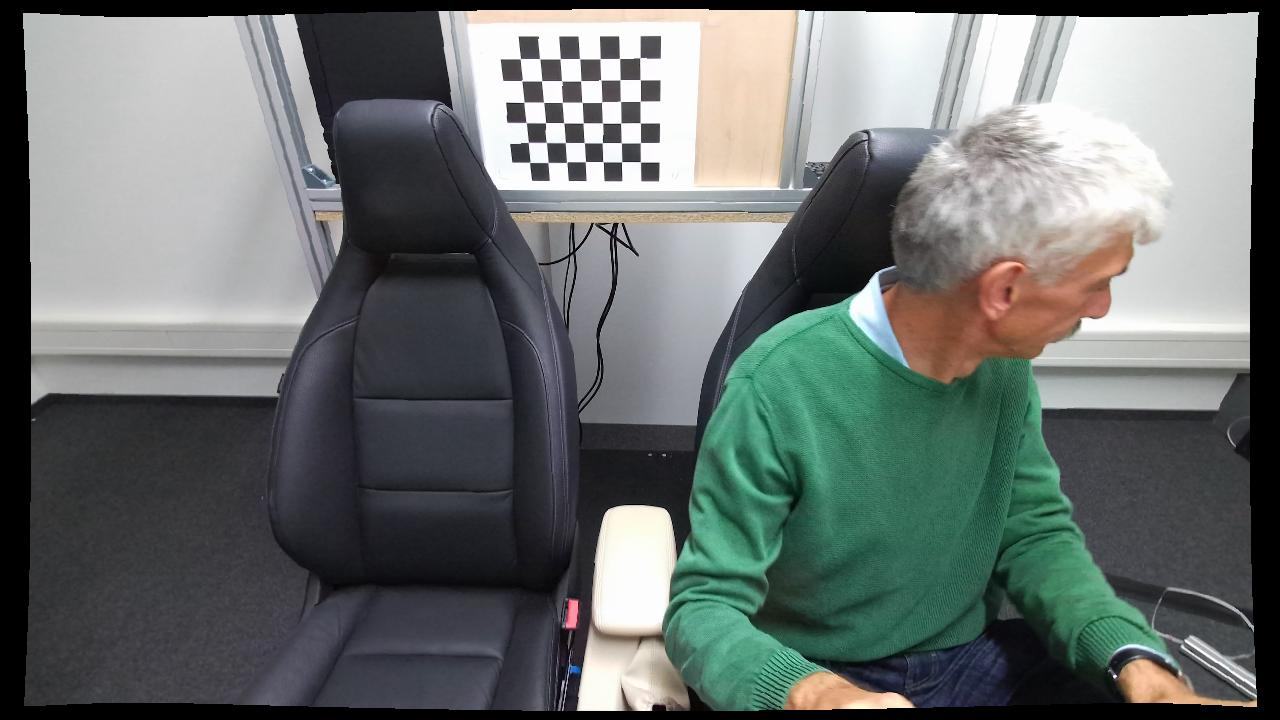Distracted: (664, 99, 1252, 707)
